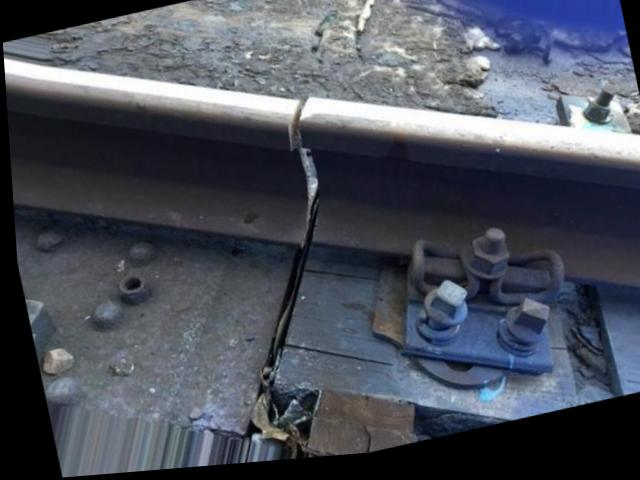person: (189, 42, 414, 271)
